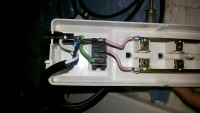Three_eye_plug: (40, 11, 200, 97)
